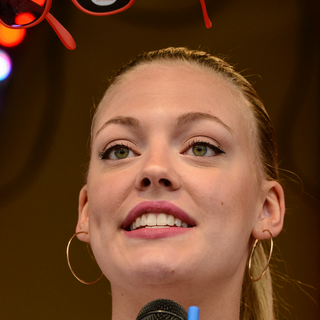eye: (169, 134, 232, 165), (94, 138, 145, 168)
